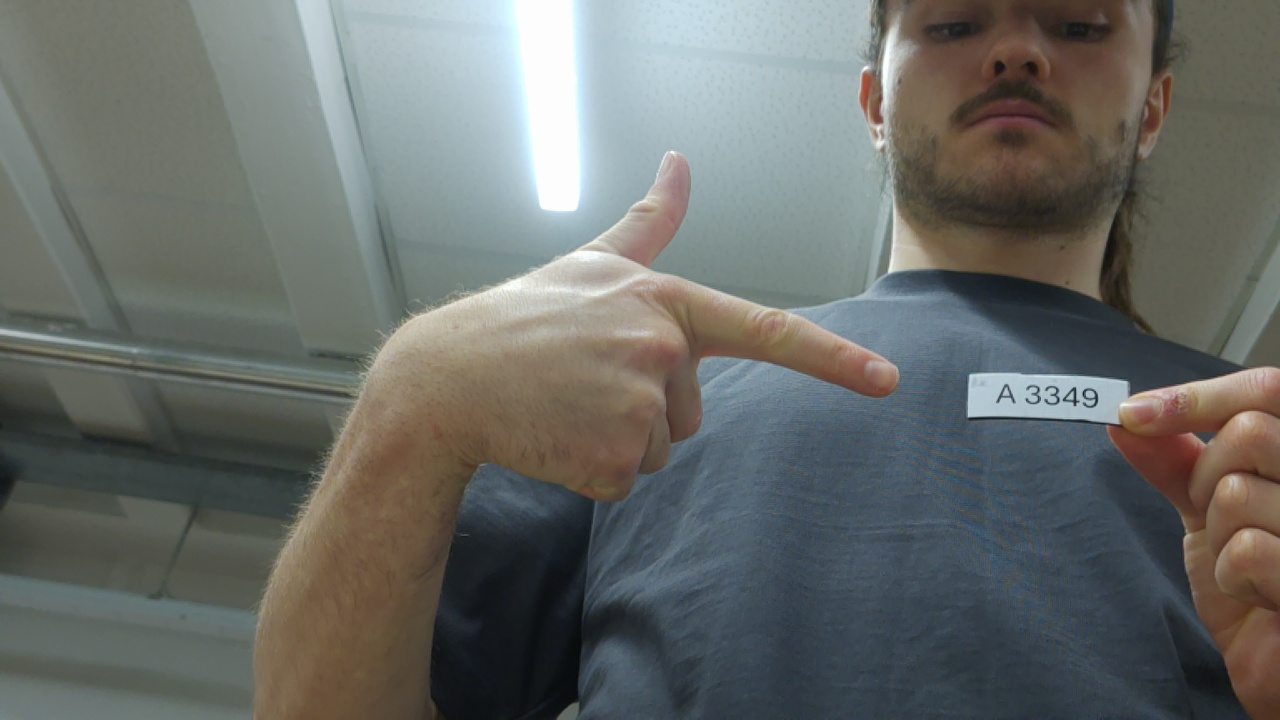license_plate: (962, 353, 1147, 443)
